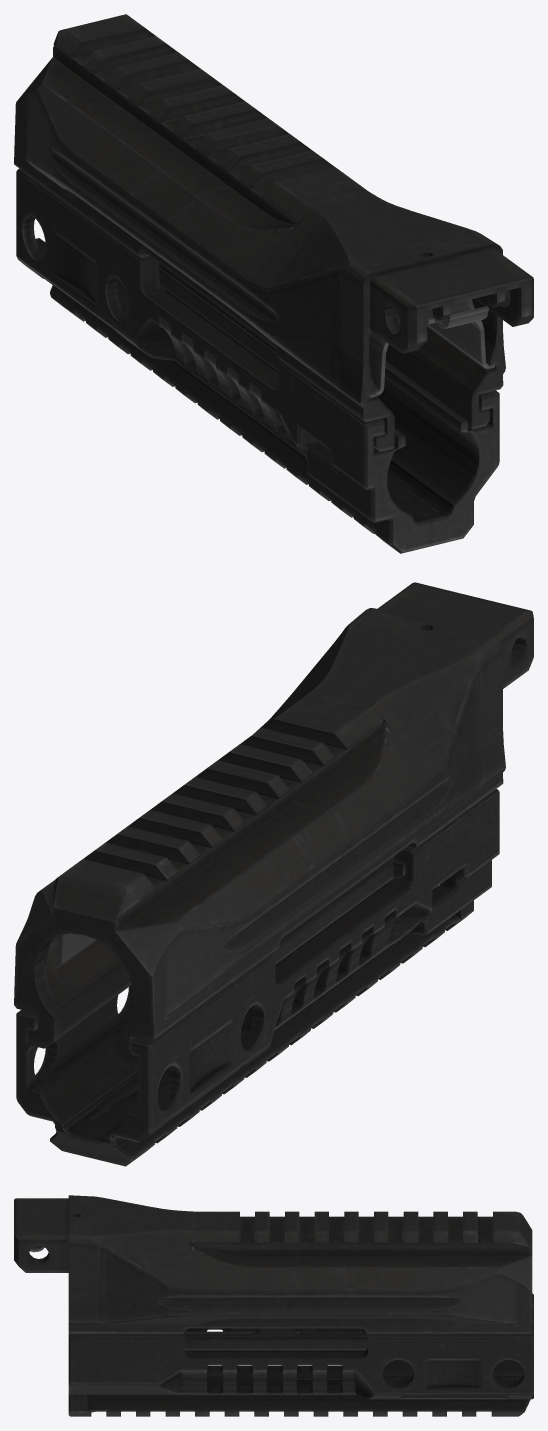
3 views of the same model, one above another, from view 1: azimuth 30°, elevation 25°; view 2: azimuth 150°, elevation 25°; view 3: azimuth 270°, elevation 25° (orthographic). The views are drawn at different scales.
Visible parts, largest first — view 1: TW_649ec127c93611967b034957_PZ_Import; view 2: TW_649ec127c93611967b034957_PZ_Import; view 3: TW_649ec127c93611967b034957_PZ_Import.
Boxes of the visible parts, <box> form: TW_649ec127c93611967b034957_PZ_Import: <box>14,14,533,553</box>; TW_649ec127c93611967b034957_PZ_Import: <box>14,582,533,1166</box>; TW_649ec127c93611967b034957_PZ_Import: <box>14,1195,533,1416</box>.
Bounding box in the file's own units: 0.0276 × 0.1009 × 0.041.
1 material, 1 textured.
